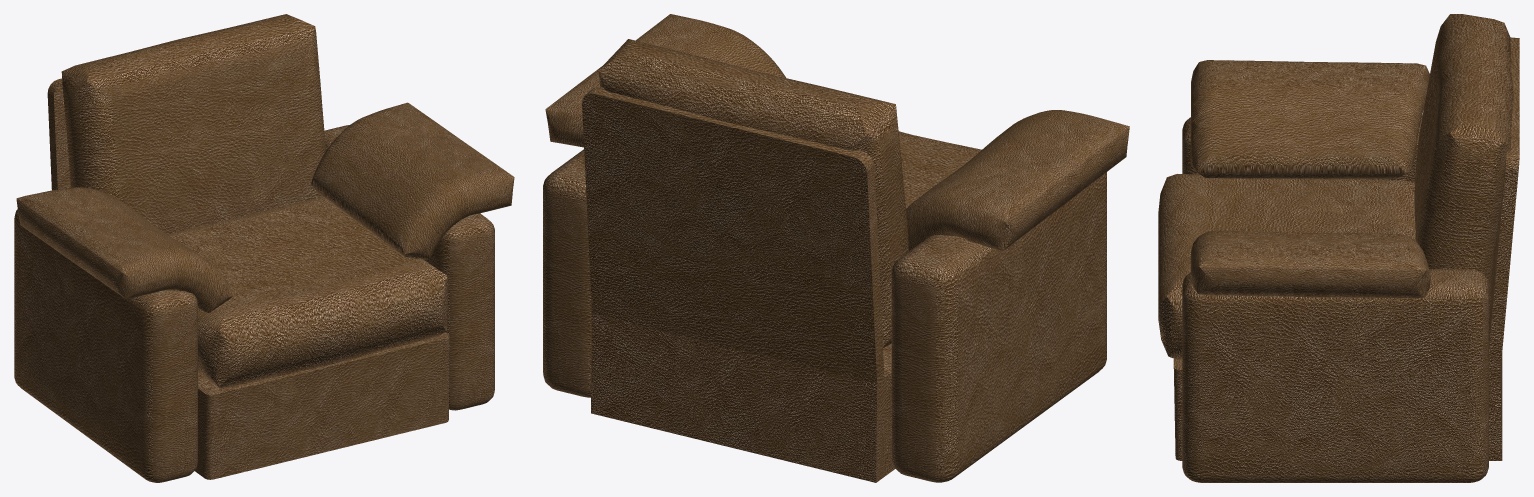
Rendered from SingleSofa.obj.
3 renders of one model, left to right at view 1: azimuth 30°, elevation 25°; view 2: azimuth 150°, elevation 25°; view 3: azimuth 270°, elevation 25°, orthographic. The views are drawn at different scales.
Parts seen in each view (by area): view 1: Group_1_001, Group_3_001, Group_10_002, Component_1_001, Group_2_003, Group_2_001, Group_10_001; view 2: Component_1_001, Group_10_002, Group_1_001, Group_2_001, Group_10_001, Group_2_003, Group_3_001; view 3: Group_10_001, Group_2_001, Group_1_001, Group_3_001, Group_2_003, Component_1_001, Group_10_002.
Part boxes in pixels (x1=…): Group_1_001: x1=61, y1=14, x2=325, y2=234; Group_3_001: x1=167, y1=196, x2=448, y2=389; Group_10_002: x1=14, y1=209, x2=197, y2=482; Component_1_001: x1=47, y1=78, x2=449, y2=479; Group_2_003: x1=310, y1=102, x2=514, y2=259; Group_2_001: x1=16, y1=187, x2=232, y2=312; Group_10_001: x1=324, y1=125, x2=494, y2=410; Component_1_001: x1=582, y1=87, x2=895, y2=482; Group_10_002: x1=891, y1=172, x2=1106, y2=482; Group_1_001: x1=598, y1=39, x2=908, y2=348; Group_2_001: x1=906, y1=110, x2=1129, y2=251; Group_10_001: x1=543, y1=149, x2=591, y2=397; Group_2_003: x1=545, y1=14, x2=785, y2=147; Group_3_001: x1=898, y1=131, x2=981, y2=208; Group_10_001: x1=1182, y1=269, x2=1488, y2=482; Group_2_001: x1=1190, y1=60, x2=1429, y2=178; Group_1_001: x1=1414, y1=14, x2=1513, y2=321; Group_3_001: x1=1158, y1=174, x2=1415, y2=360; Group_2_003: x1=1190, y1=230, x2=1430, y2=298; Component_1_001: x1=1173, y1=37, x2=1519, y2=460; Group_10_002: x1=1182, y1=114, x2=1422, y2=183.
Size of the model in its own units: 66.37 by 48.98 by 48.86.
